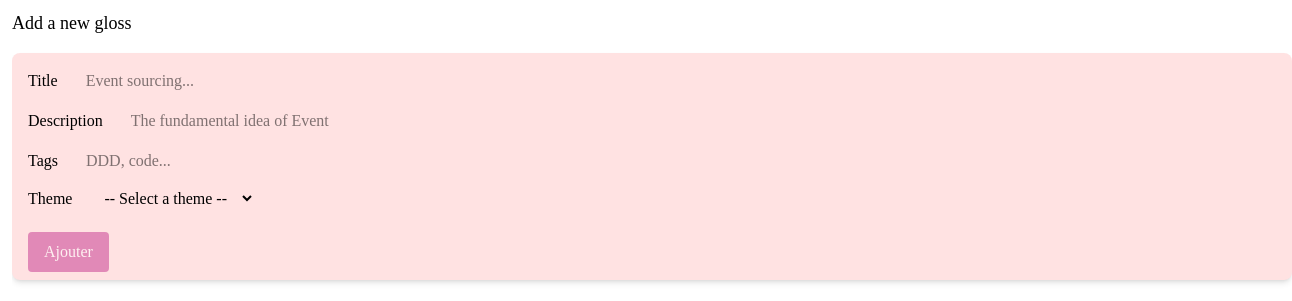
Test: Gloss Form Terms › submit button › should be enabled when all fields are filled
Type "TDD" into the field named "title" at (186, 81), box [74,61,298,101]
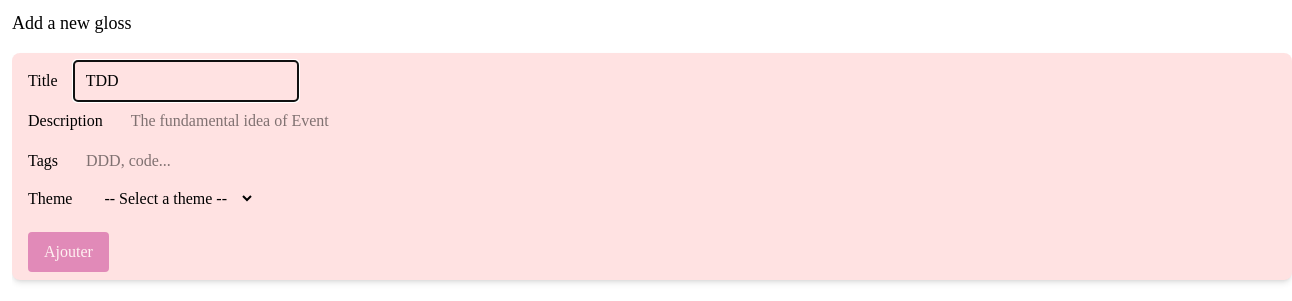
Type "Created by Kent Beck" into the field named "description" at (231, 121), box [119,101,343,141]
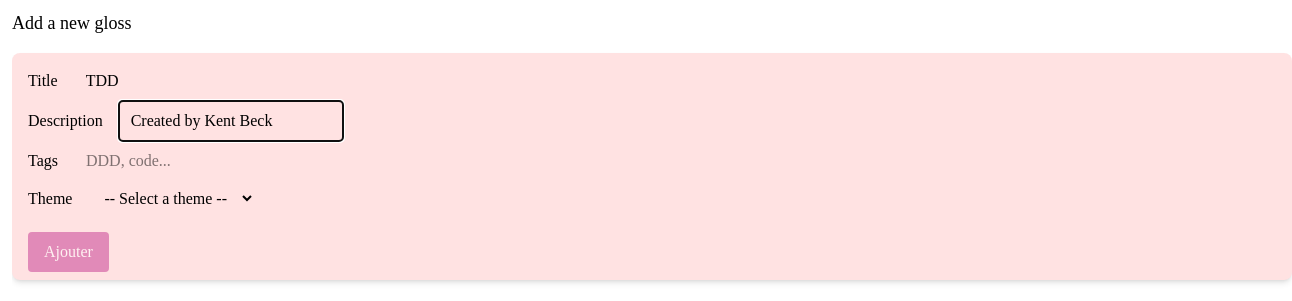
Type "XP" into the field named "tags" at (186, 161), box [74,141,298,181]
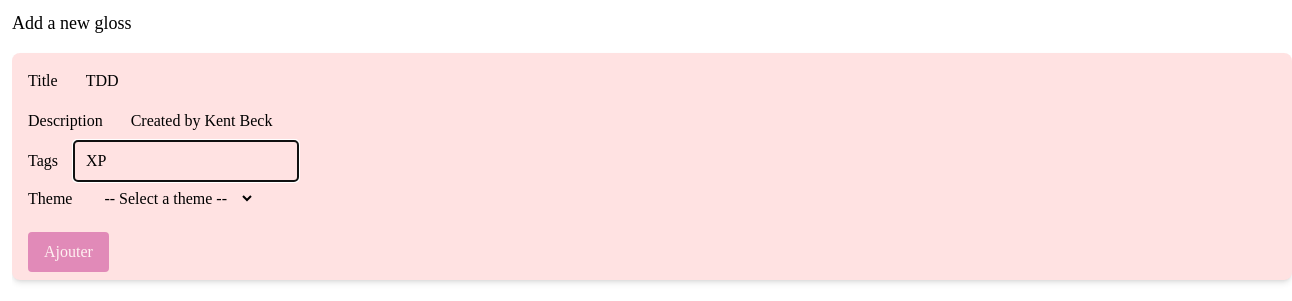
Select "CRAFT" in the dropdown labelled "Theme" at (172, 198), box [88,181,255,216]
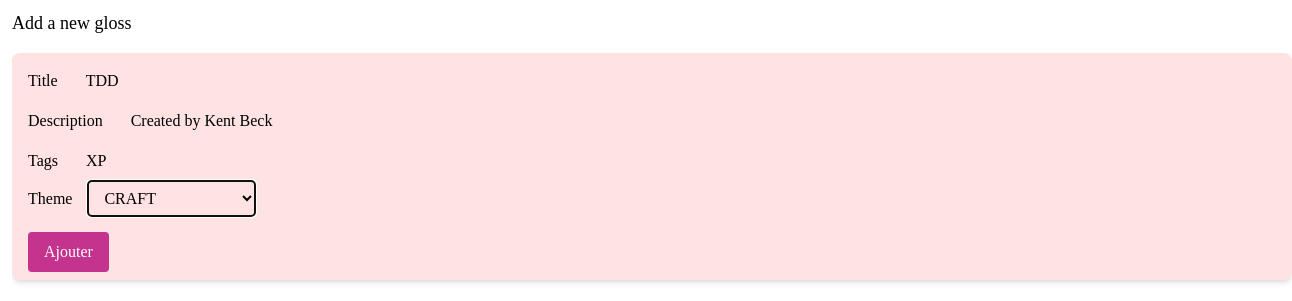
Expected: the button "Ajouter" is enabled, [28,232,109,272]
